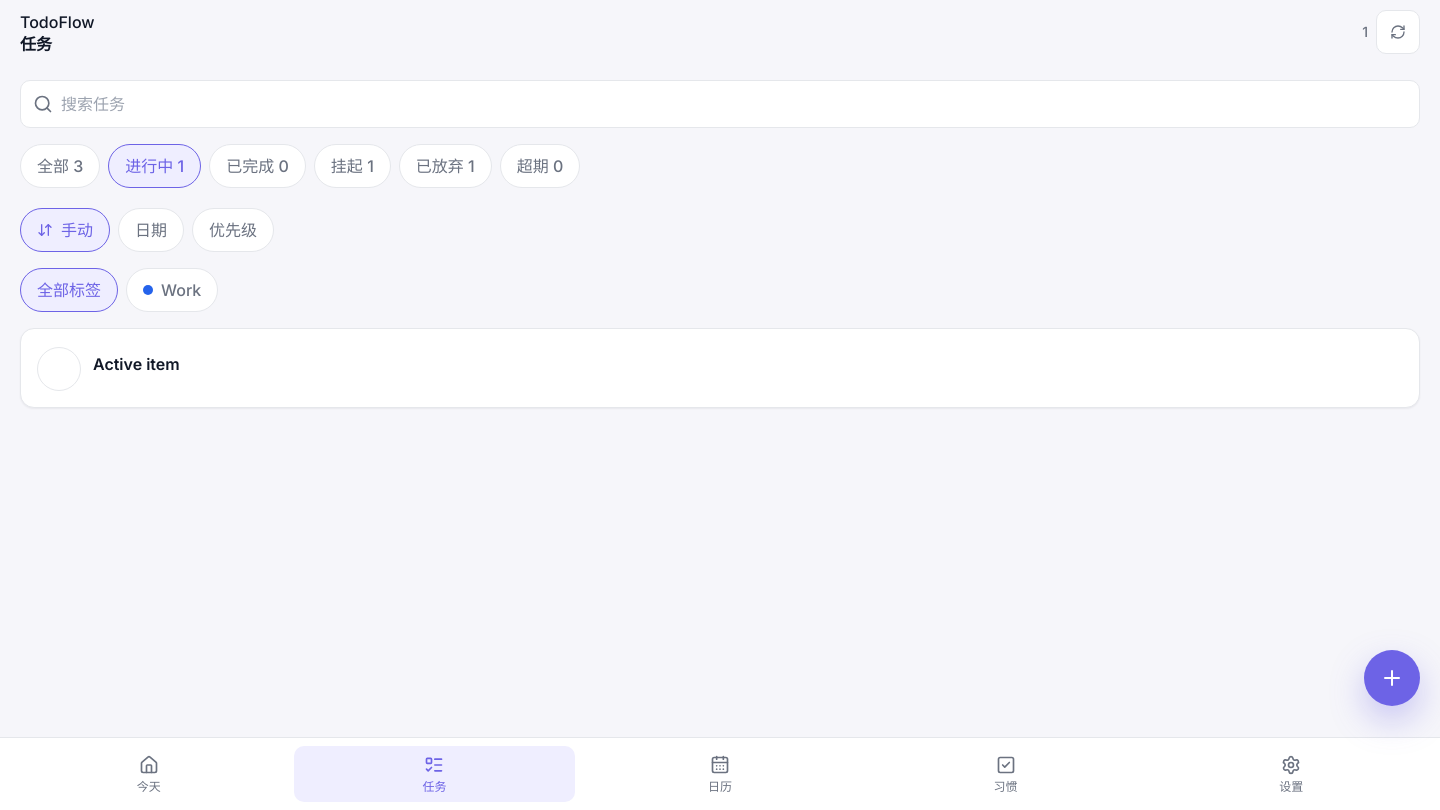
Test case: Mobile task experience › filters suspended and abandoned tasks after search and tag scoping
Expected: the heading "Active item" is shown, top-left (93, 354), bottom-right (180, 374)
Expected: the text "Paused work" is not shown
Click the button "挂起 1". click: [352, 166]
box: top-left (314, 144), bottom-right (391, 188)
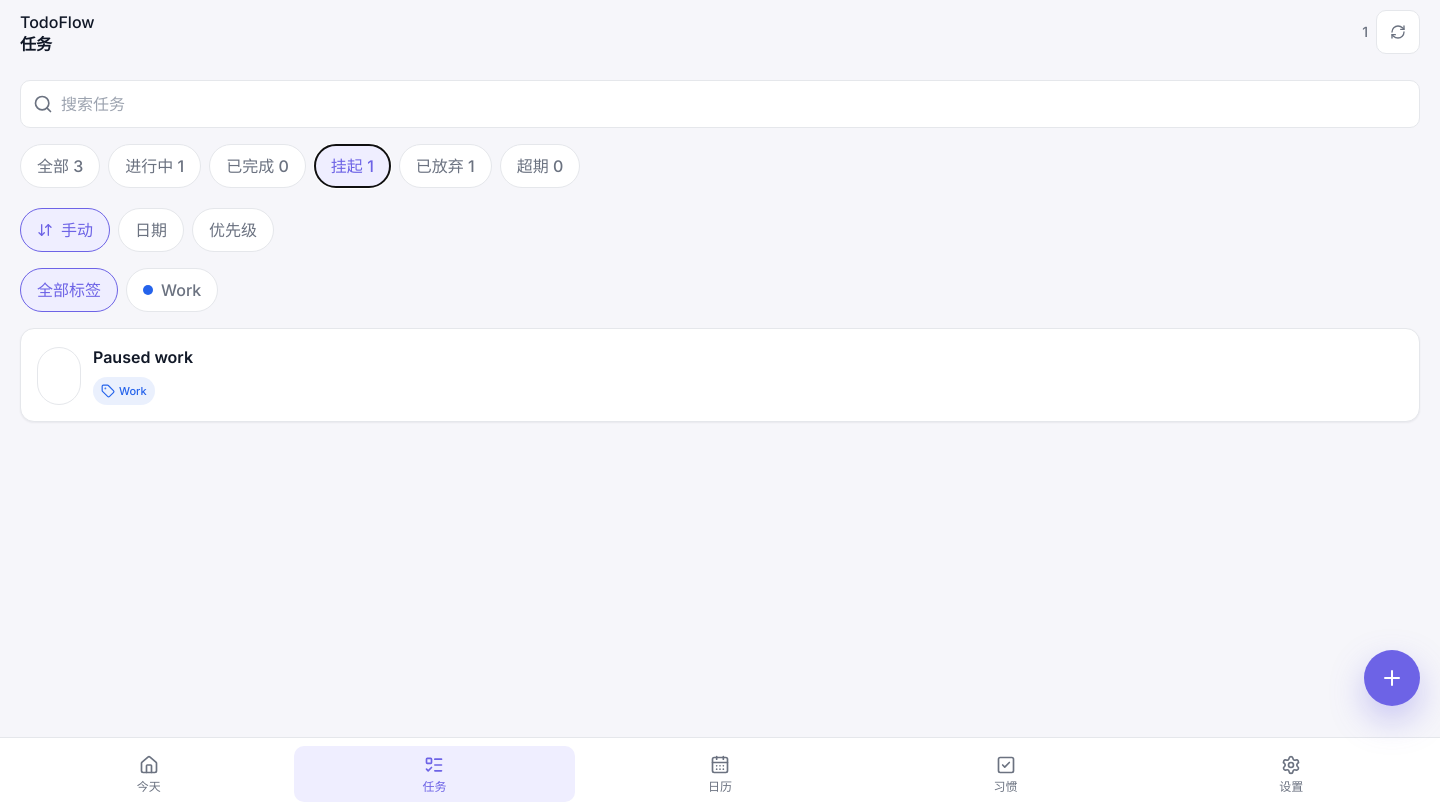
Expected: the heading "Paused work" is shown, top-left (93, 347), bottom-right (193, 367)
Expected: the button "Active item" is gone
Type "Paused" into the field with placeholder "搜索任务". click: [734, 104]
box: top-left (61, 92), bottom-right (1407, 116)
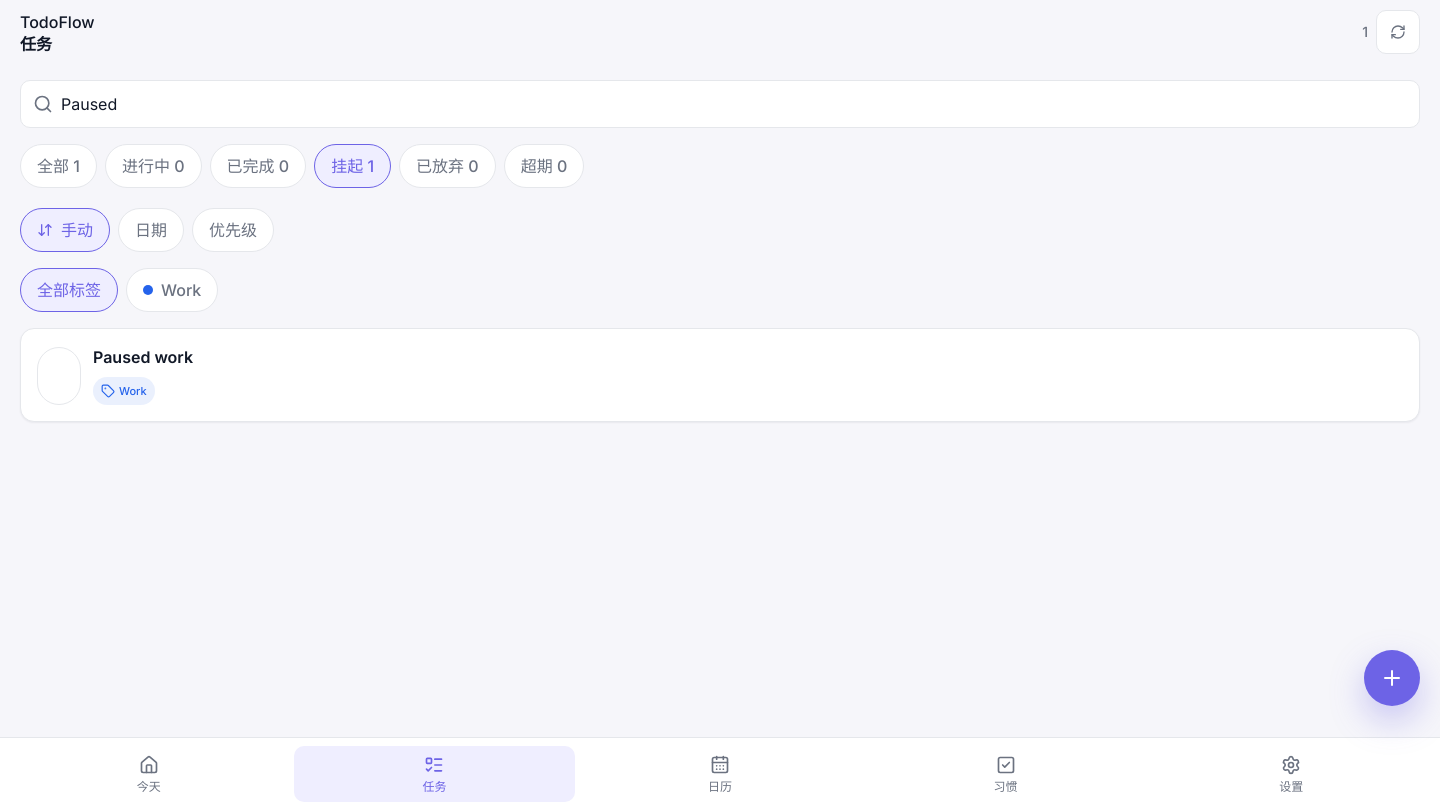
Click the button "Work". click: [172, 290]
box: top-left (126, 268), bottom-right (218, 312)
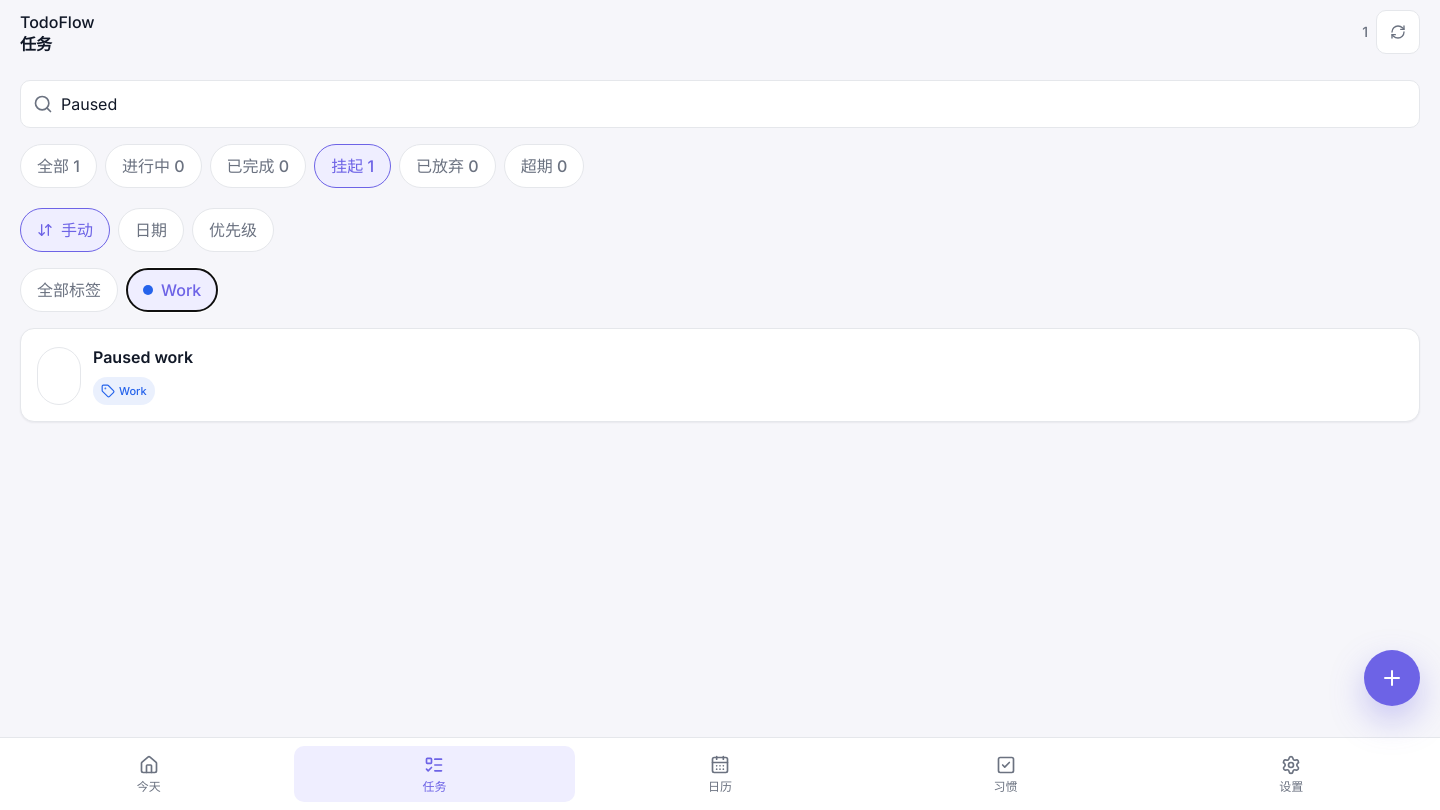
Expected: the button "挂起 1" is shown, top-left (314, 144), bottom-right (391, 188)
Expected: the button "全部 1" is shown, top-left (20, 144), bottom-right (97, 188)
Clear the field with placeholder "搜索任务". click: [734, 104]
box: top-left (61, 92), bottom-right (1407, 116)
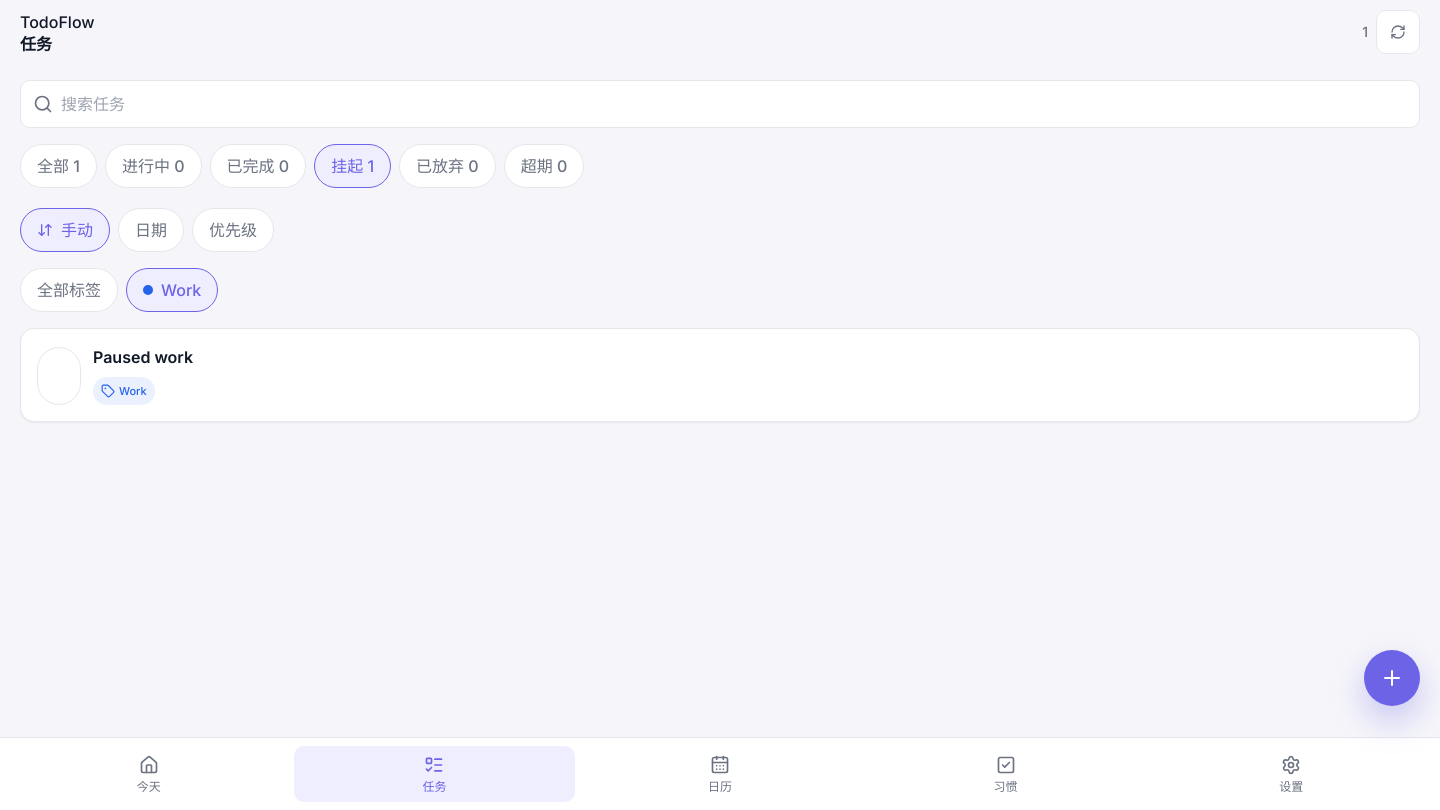
Click the button "全部标签". click: [69, 290]
box: top-left (20, 268), bottom-right (118, 312)
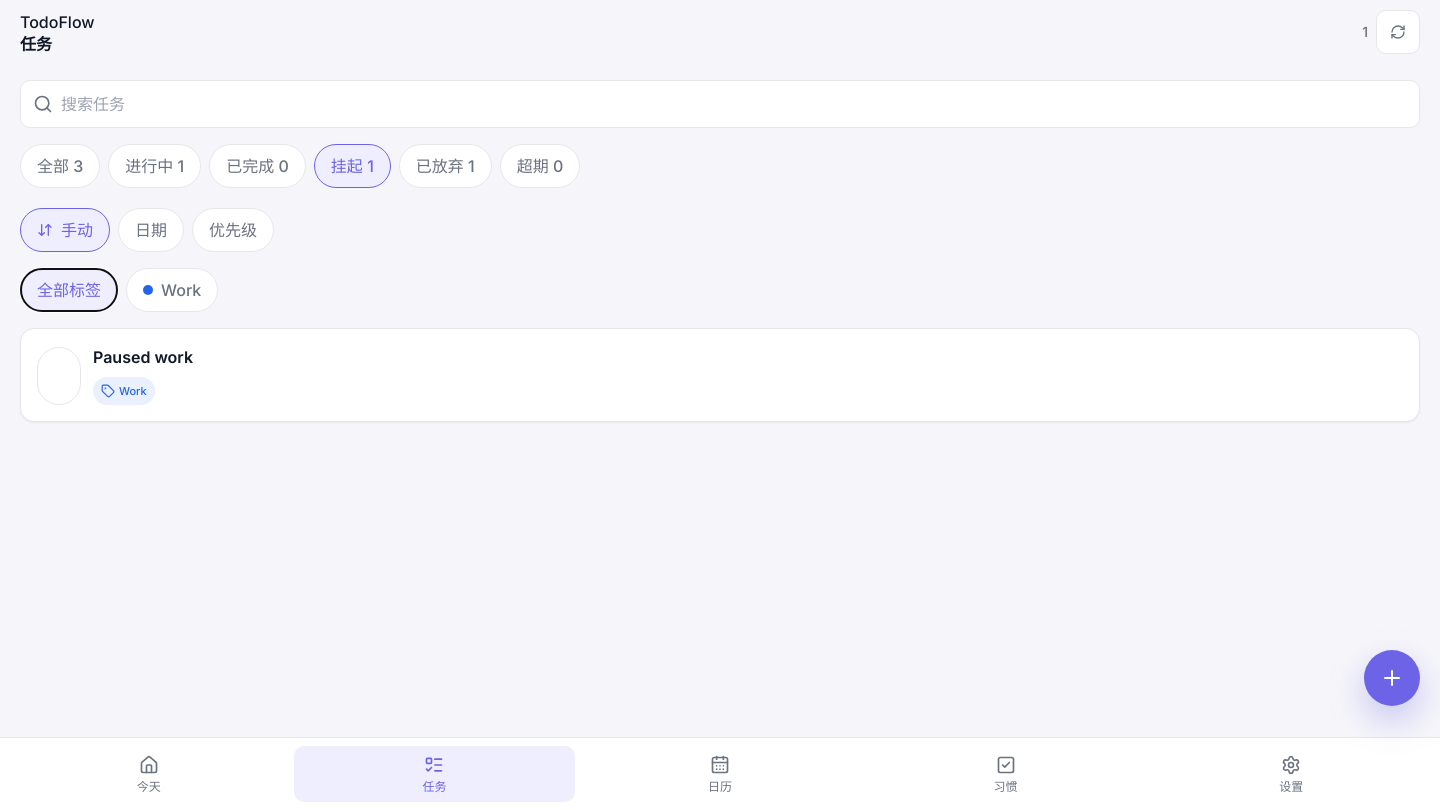
Click the button "已放弃 1". click: [445, 166]
box: top-left (399, 144), bottom-right (492, 188)
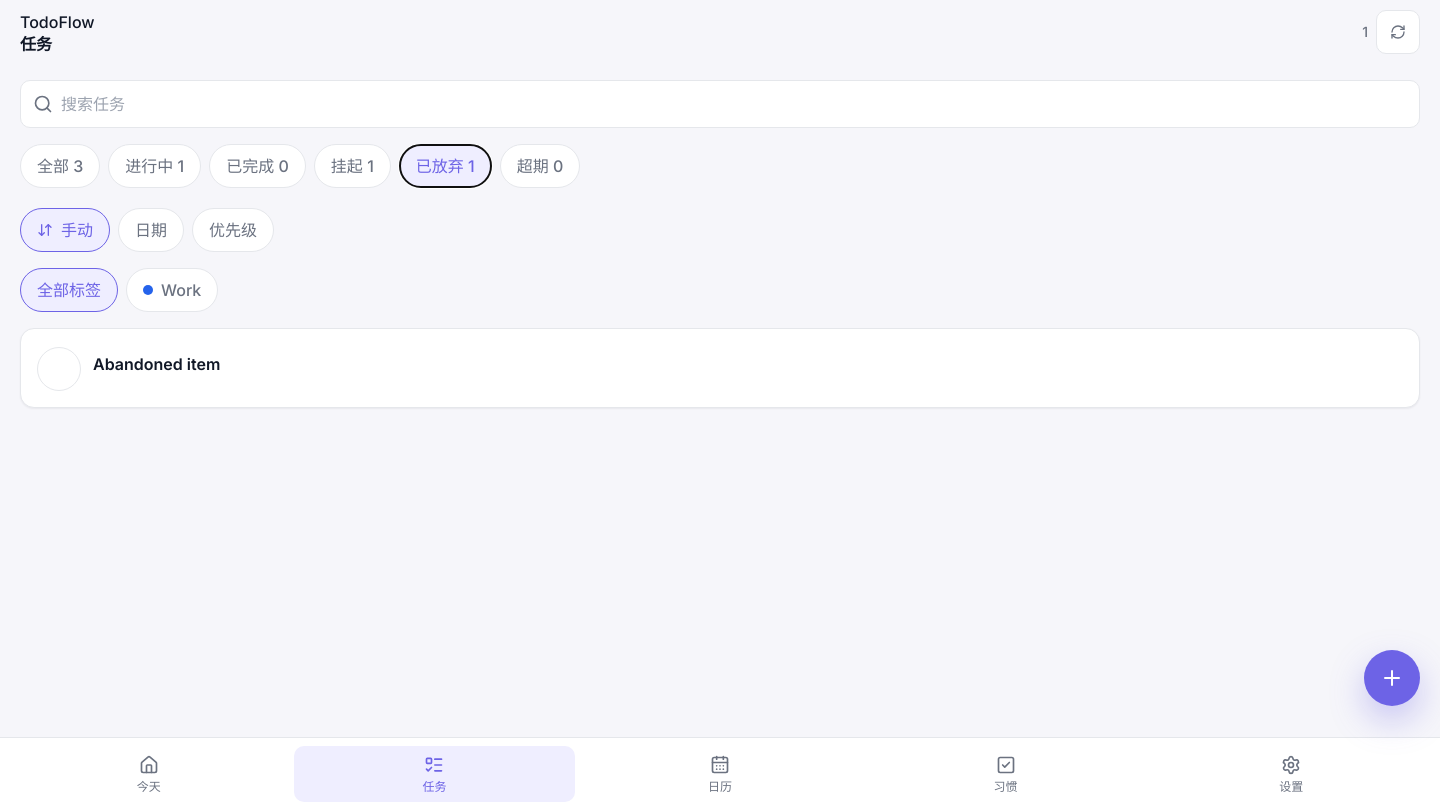
Expected: the heading "Abandoned item" is shown, top-left (93, 354), bottom-right (220, 374)
